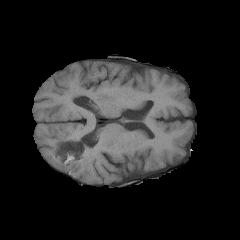glioma: (57, 138, 96, 177)
